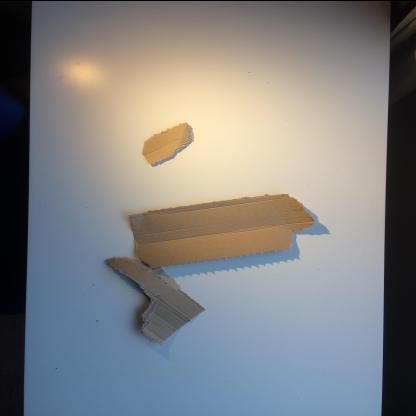karton: (129, 193, 317, 269), (104, 257, 207, 346), (142, 121, 196, 165)
